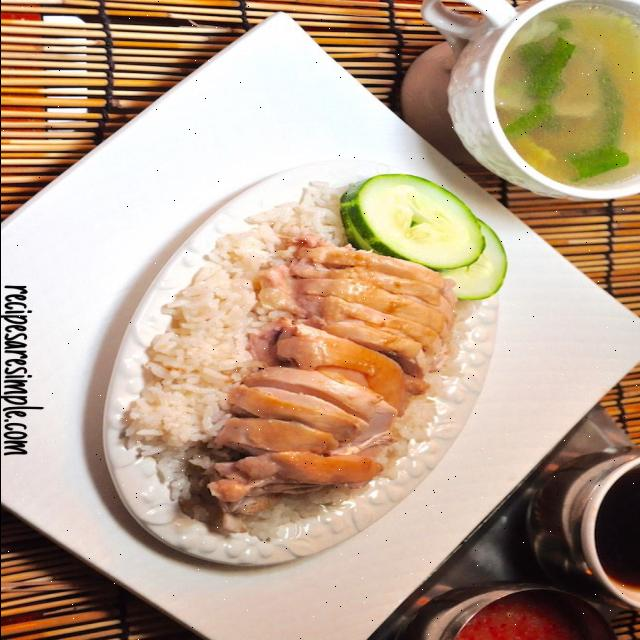Chicken: (207, 236, 454, 532)
Green veg: (340, 174, 506, 299)
Rice: (121, 182, 371, 541), (379, 381, 440, 479), (440, 301, 479, 374)
